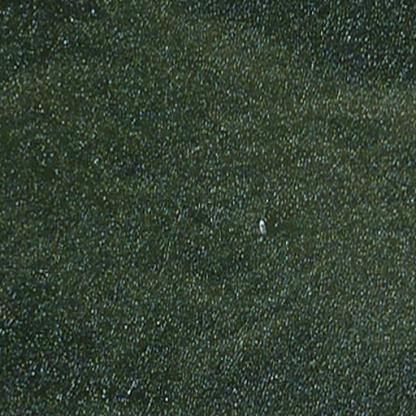ship: (251, 214, 271, 240)
